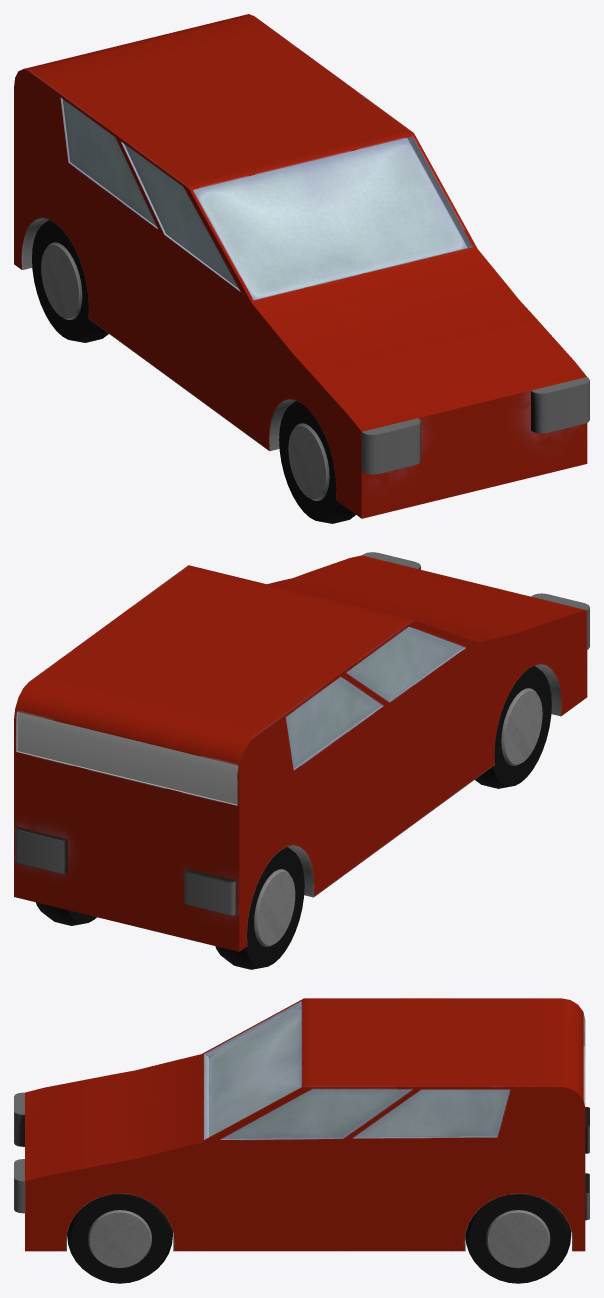
Rendered from Car.fbx.
3 renders of one model, top to bottom at view 1: azimuth 30°, elevation 25°; view 2: azimuth 150°, elevation 25°; view 3: azimuth 270°, elevation 25°, orthographic. The views are drawn at different scales.
Parts seen in each view (by area): view 1: Car; view 2: Car; view 3: Car.
Part boxes in pixels (x1,y1,x2,y2): Car: [14, 14, 589, 523]; Car: [14, 552, 589, 969]; Car: [14, 998, 589, 1283].
Bounding box in the file's own units: 7.25 × 7.74 × 19.91.
